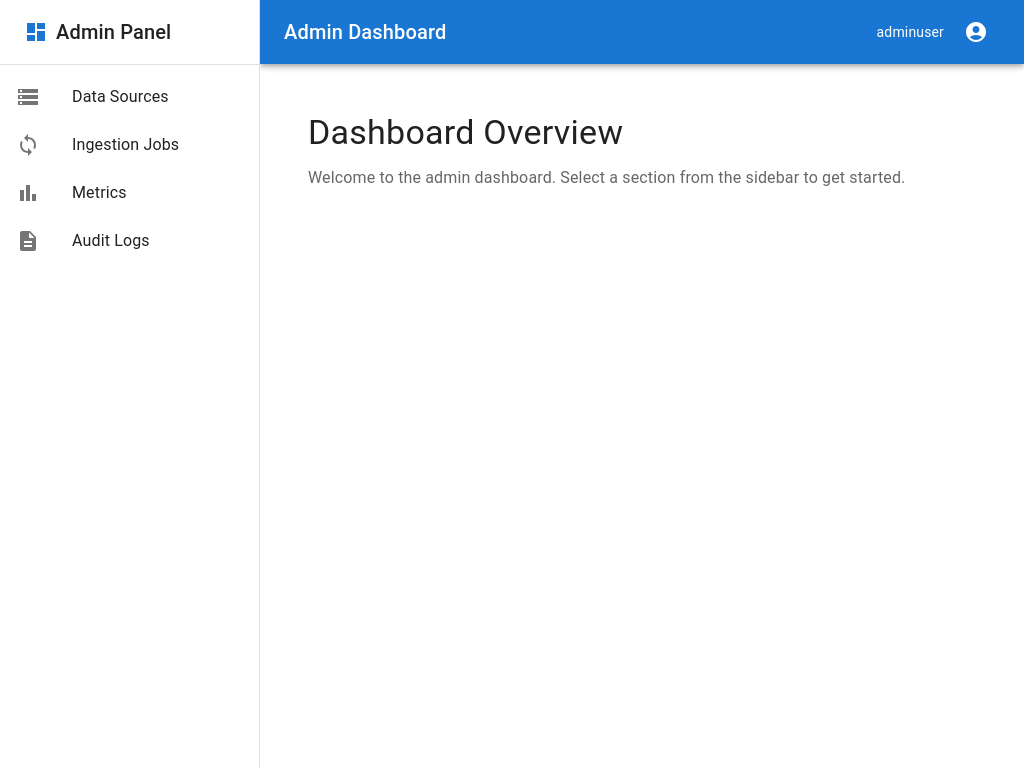
Test: AdminPage › Scenario Group D: User Menu › TC-011: User menu opens on account icon click
The width and height of the screenshot is (1024, 768).
// Find and click account icon
Click the button named "account menu".
click(976, 32)  # box [952,8,1000,56]
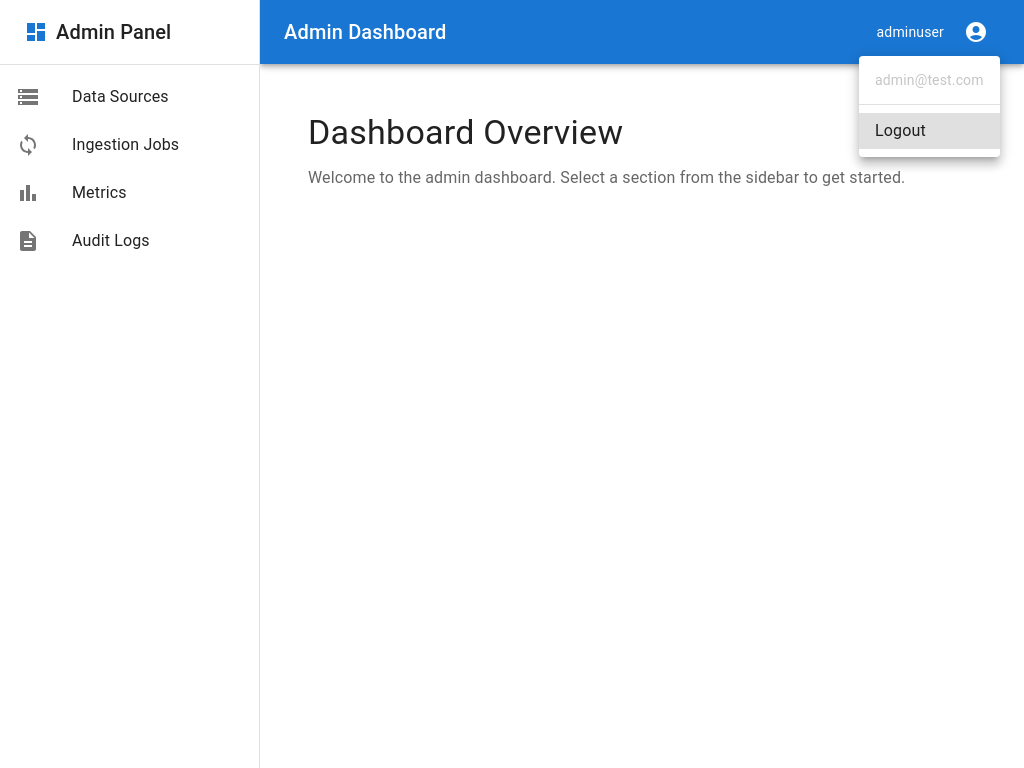
Expected: the menu item "Logout" is shown, [859,113,1000,149]
